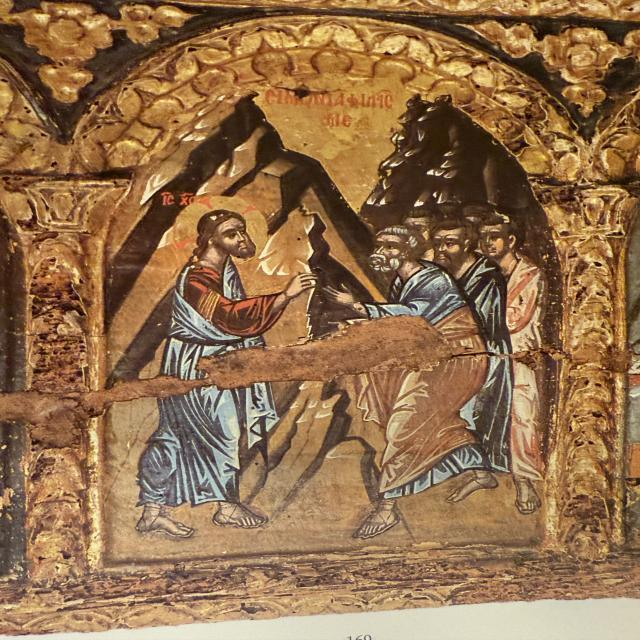aura: (171, 195, 270, 267)
christ: (136, 188, 323, 556)
christ_hand: (270, 268, 323, 311)
person: (329, 227, 479, 525), (423, 222, 513, 482), (479, 221, 547, 499)
